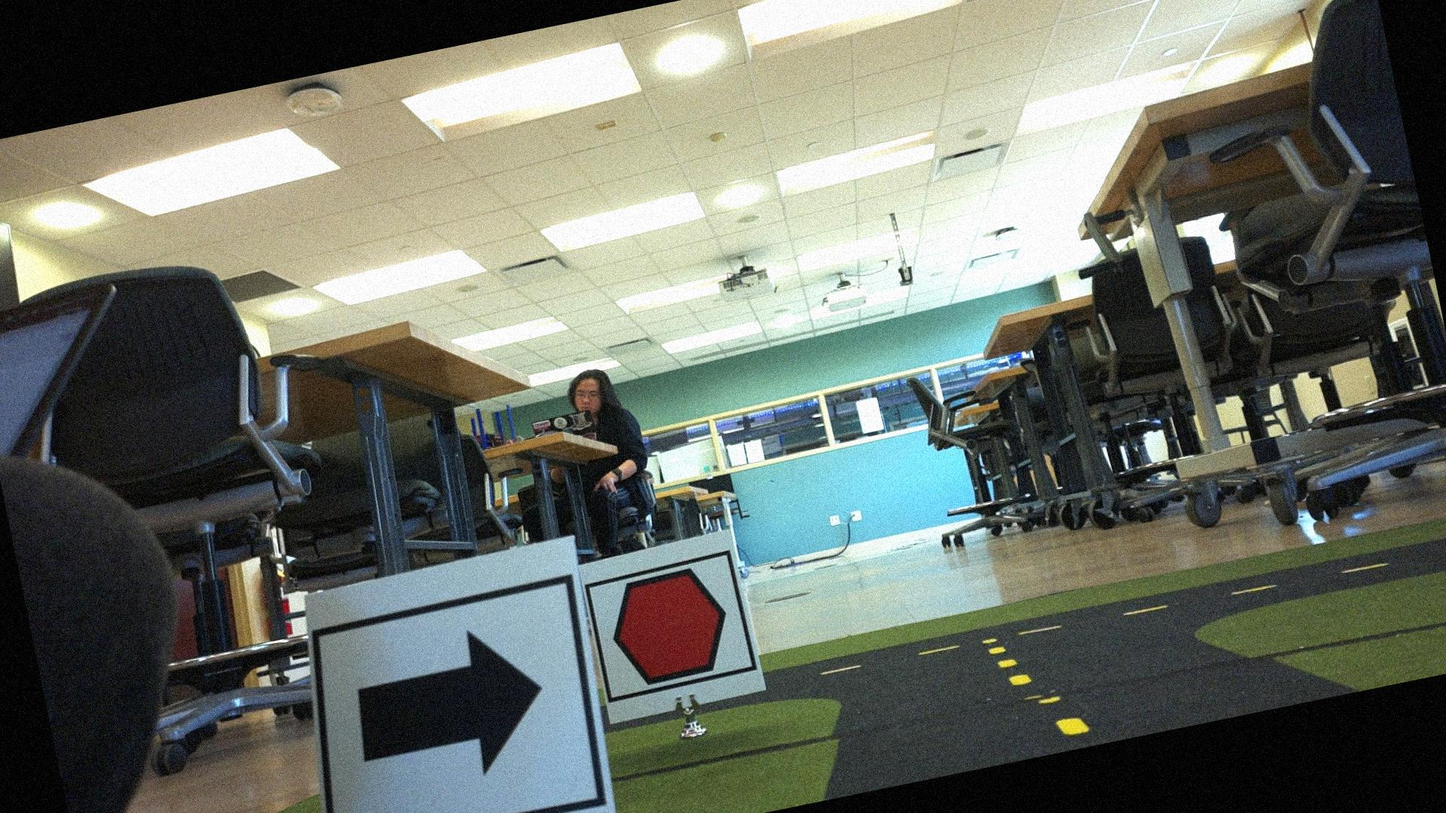stop: (587, 553, 755, 698)
turnright: (310, 580, 609, 812)
yellowline: (987, 630, 1092, 753)
